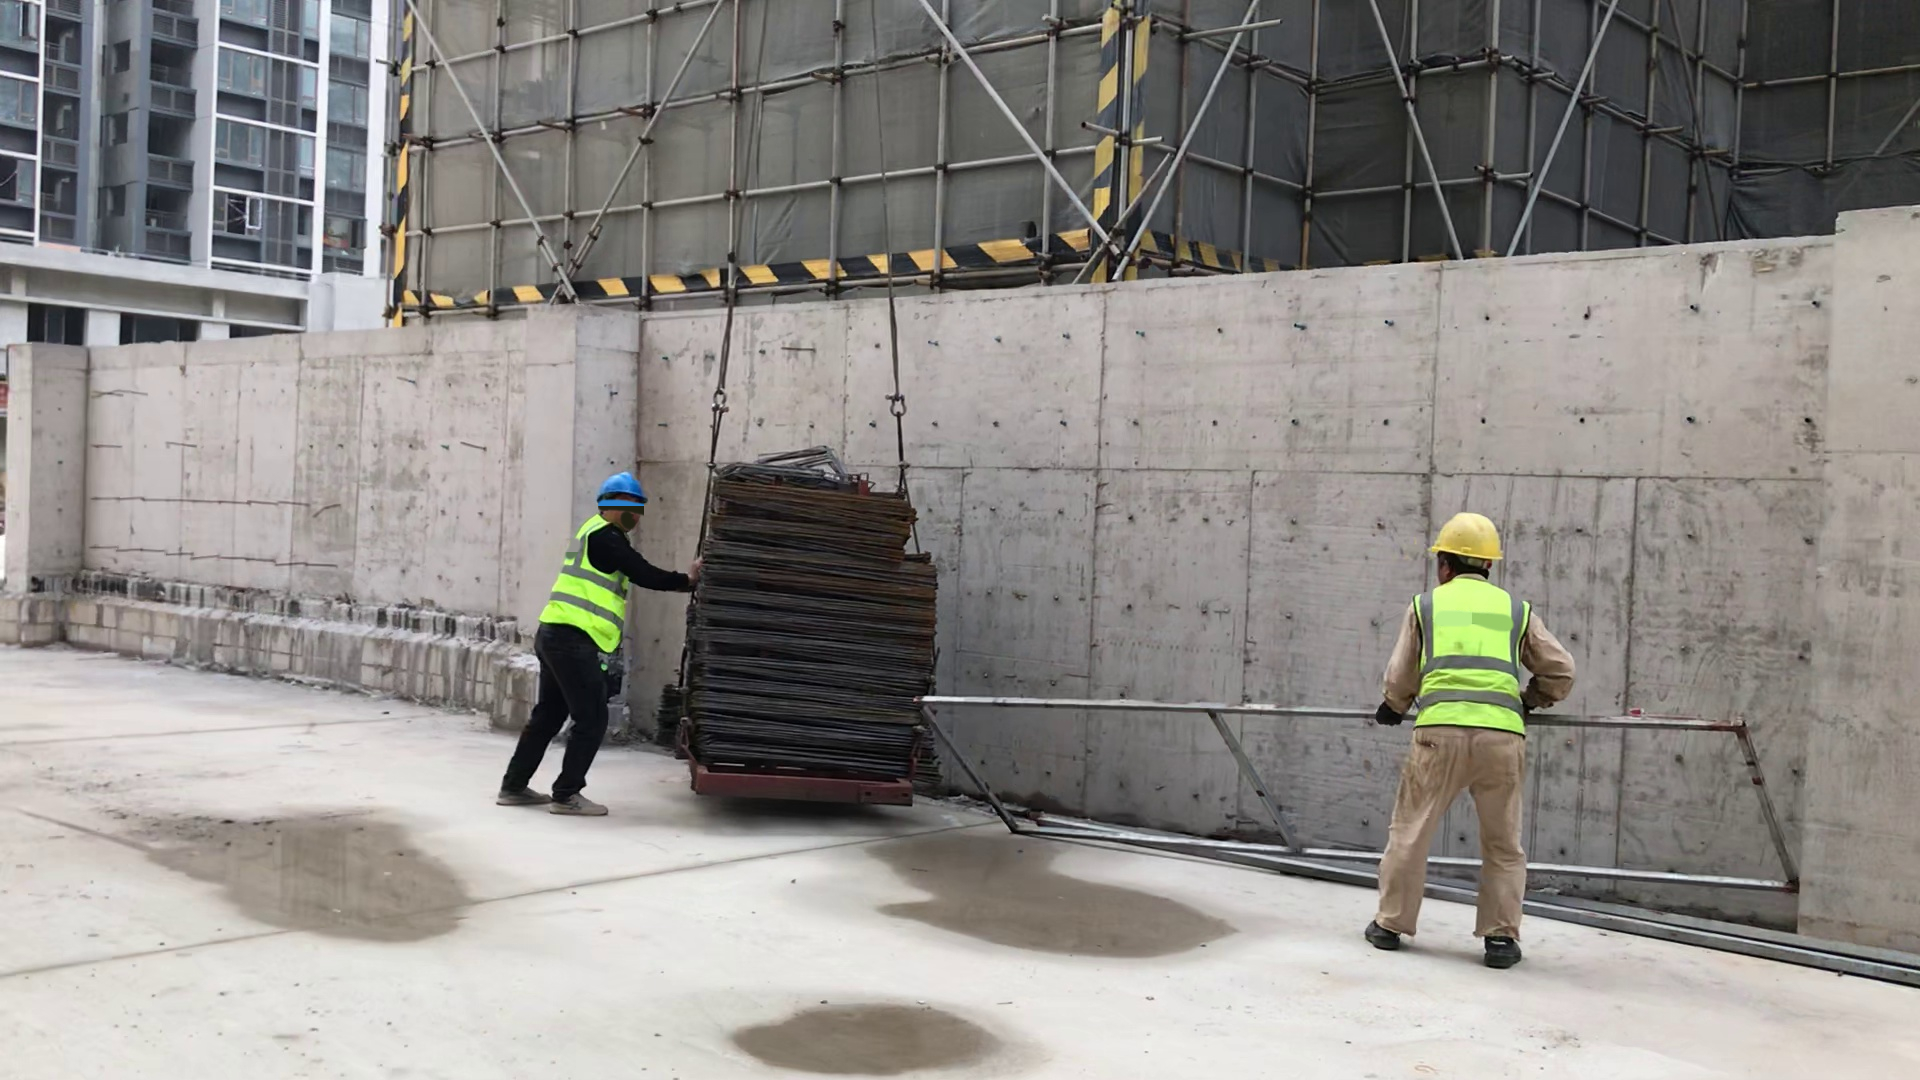helmet: (1432, 501, 1511, 579), (597, 467, 659, 517)
person: (1361, 500, 1575, 967), (479, 447, 655, 818)
vest: (1414, 578, 1539, 746), (535, 517, 644, 642)
